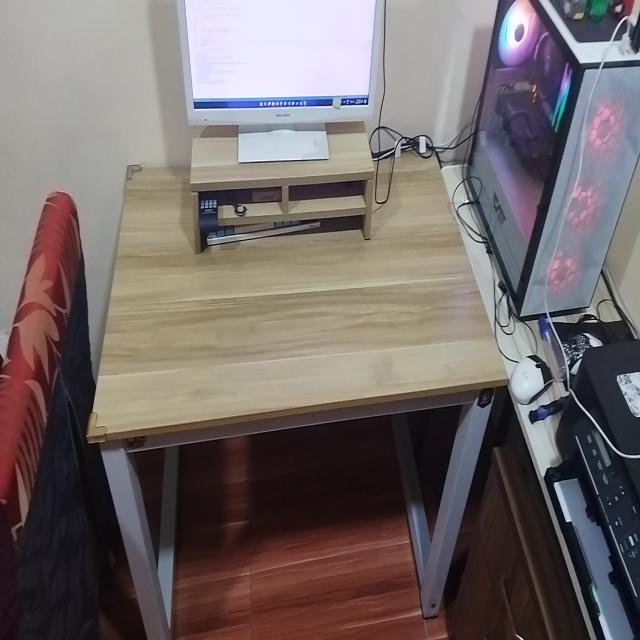table: (91, 150, 508, 640)
